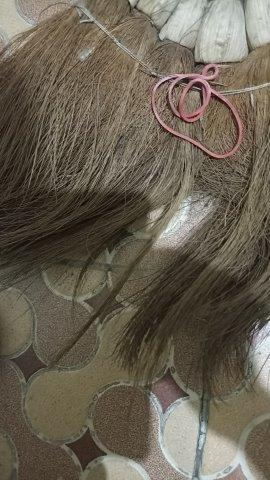karet: (151, 64, 242, 159)
